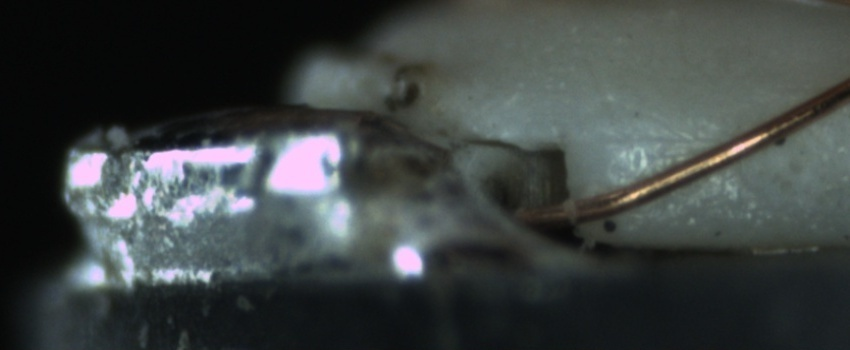DL: (603, 110, 733, 169)
